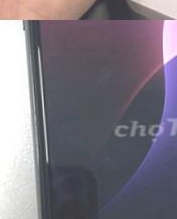scratch: (60, 47, 135, 91)
